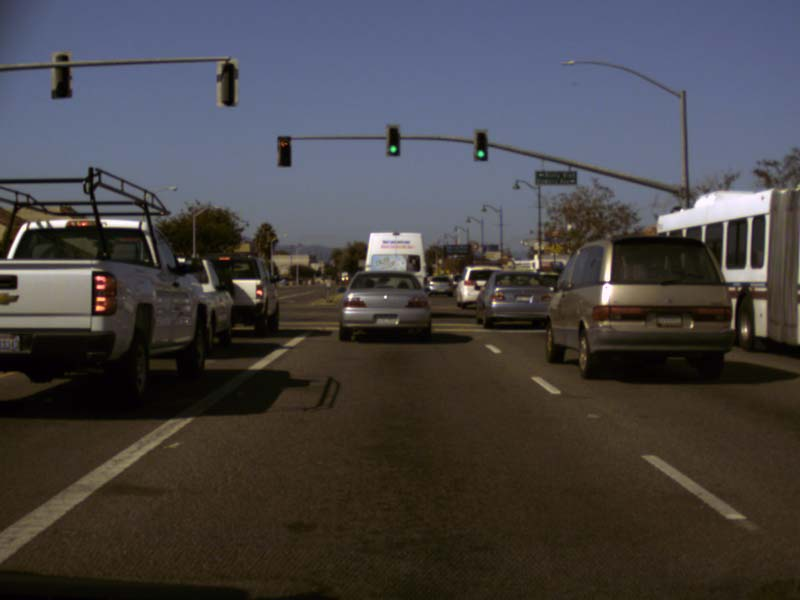Green: (474, 130, 486, 159), (387, 126, 398, 154)
Red: (278, 137, 290, 165)
